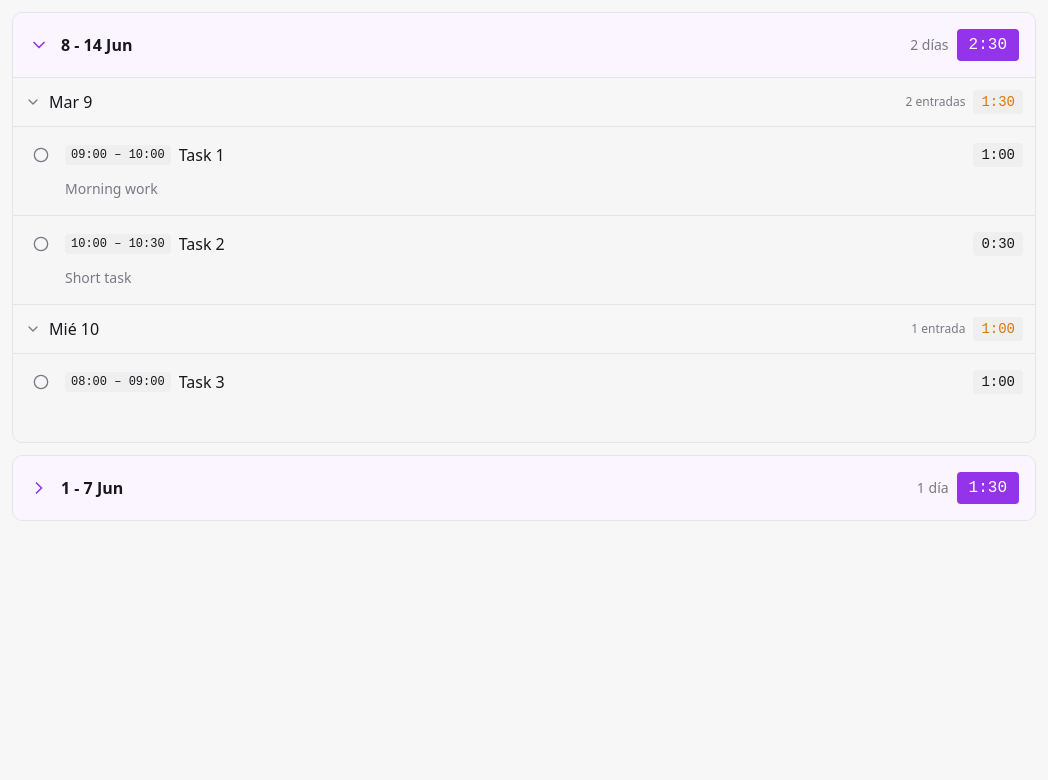
it: GroupedEntryView › expand/collapse › clicking week header toggles expand/collapse
The image size is (1048, 780).
Expected: the text "Lun 1" is not shown
Click the text "1 - 7 Jun" at (92,488), box [61, 476, 123, 500]
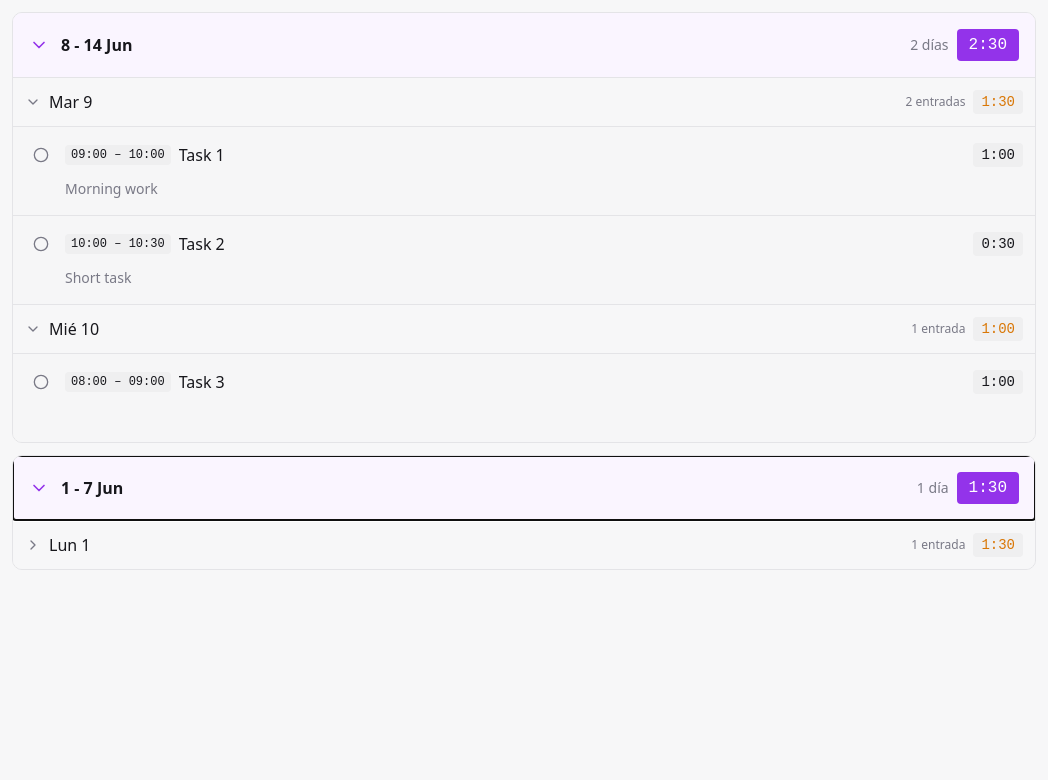
Now the text "Lun 1" is shown, box [49, 533, 90, 557]
// Click again to collapse
Click the text "1 - 7 Jun" at (92,488), box [61, 476, 123, 500]
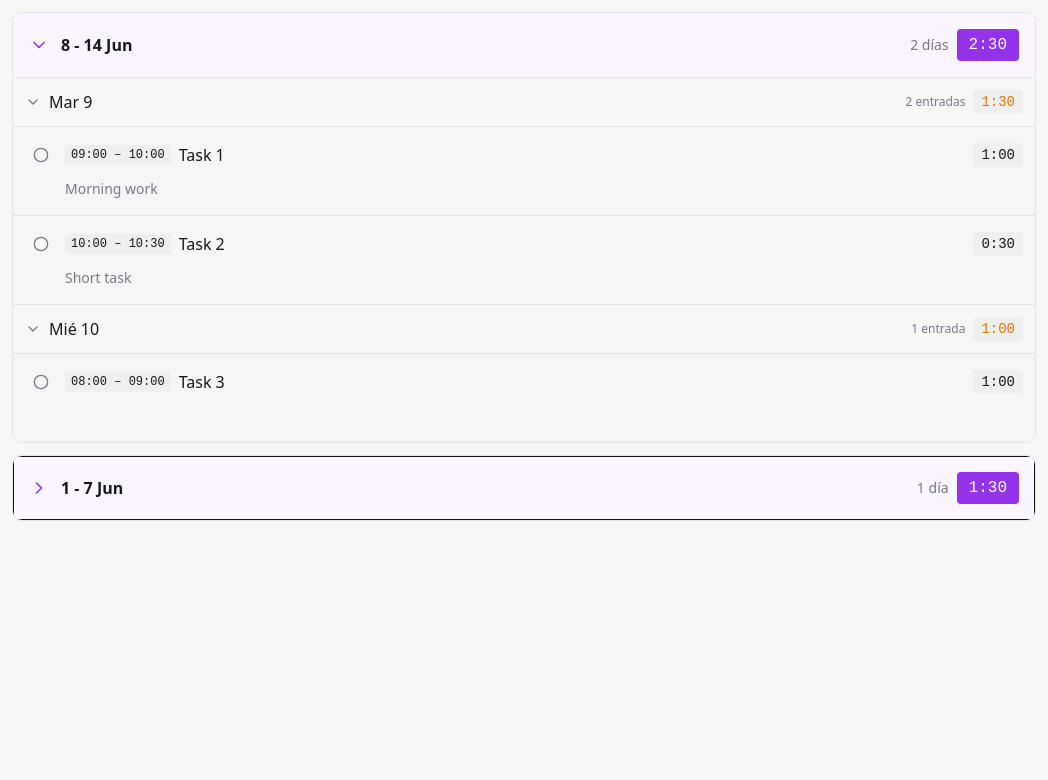
Now the button "Lun 1" is gone
